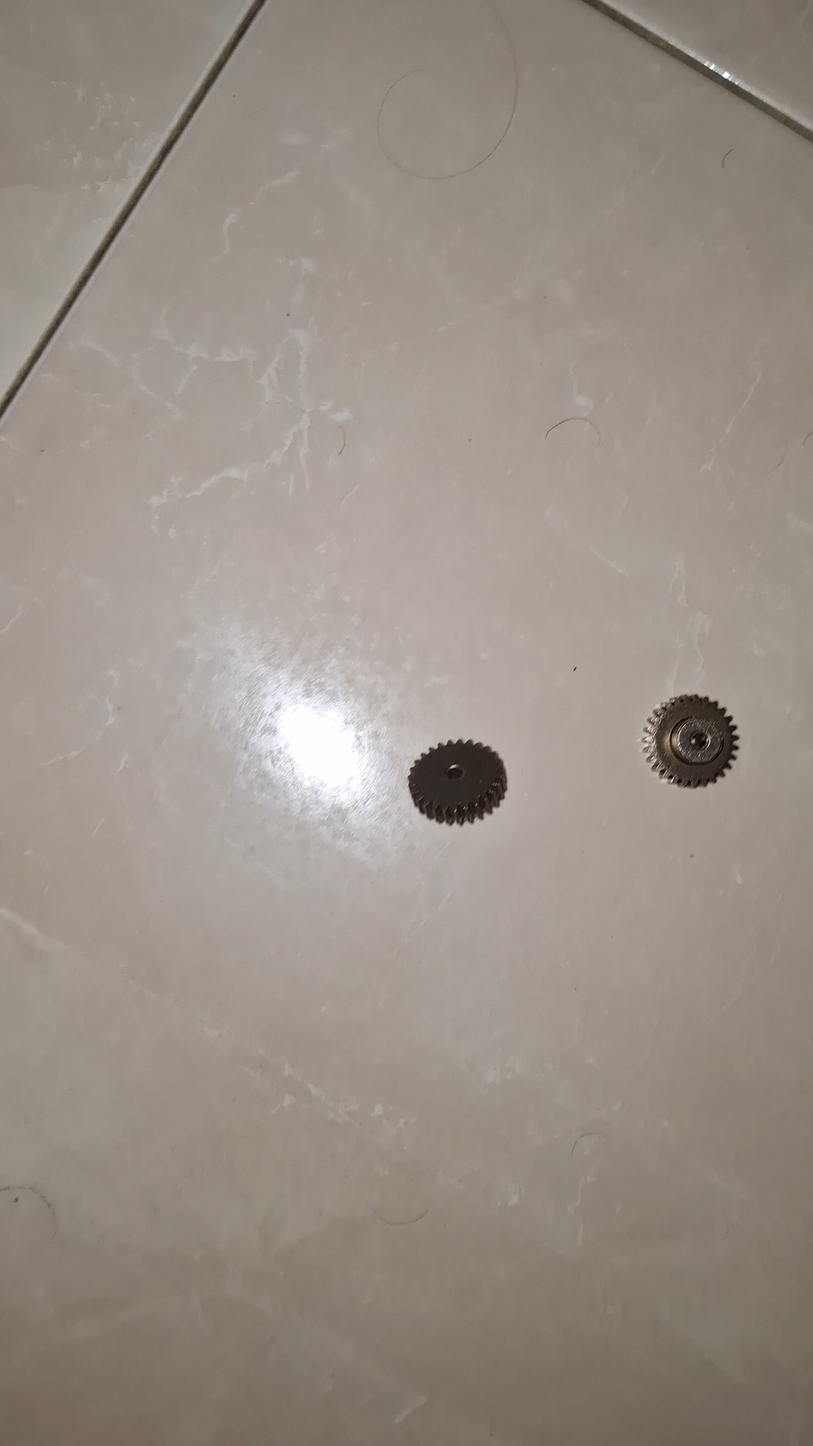spur gear: (643, 695, 737, 787), (408, 739, 507, 824)
